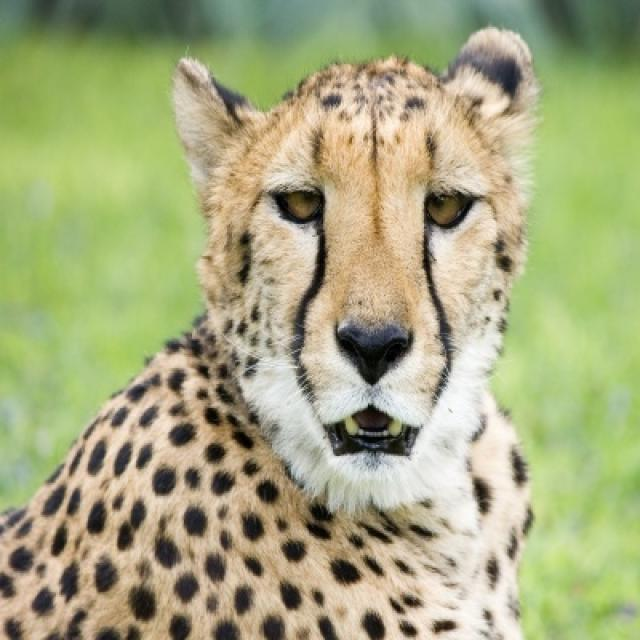Cheetah: (0, 27, 544, 638)
